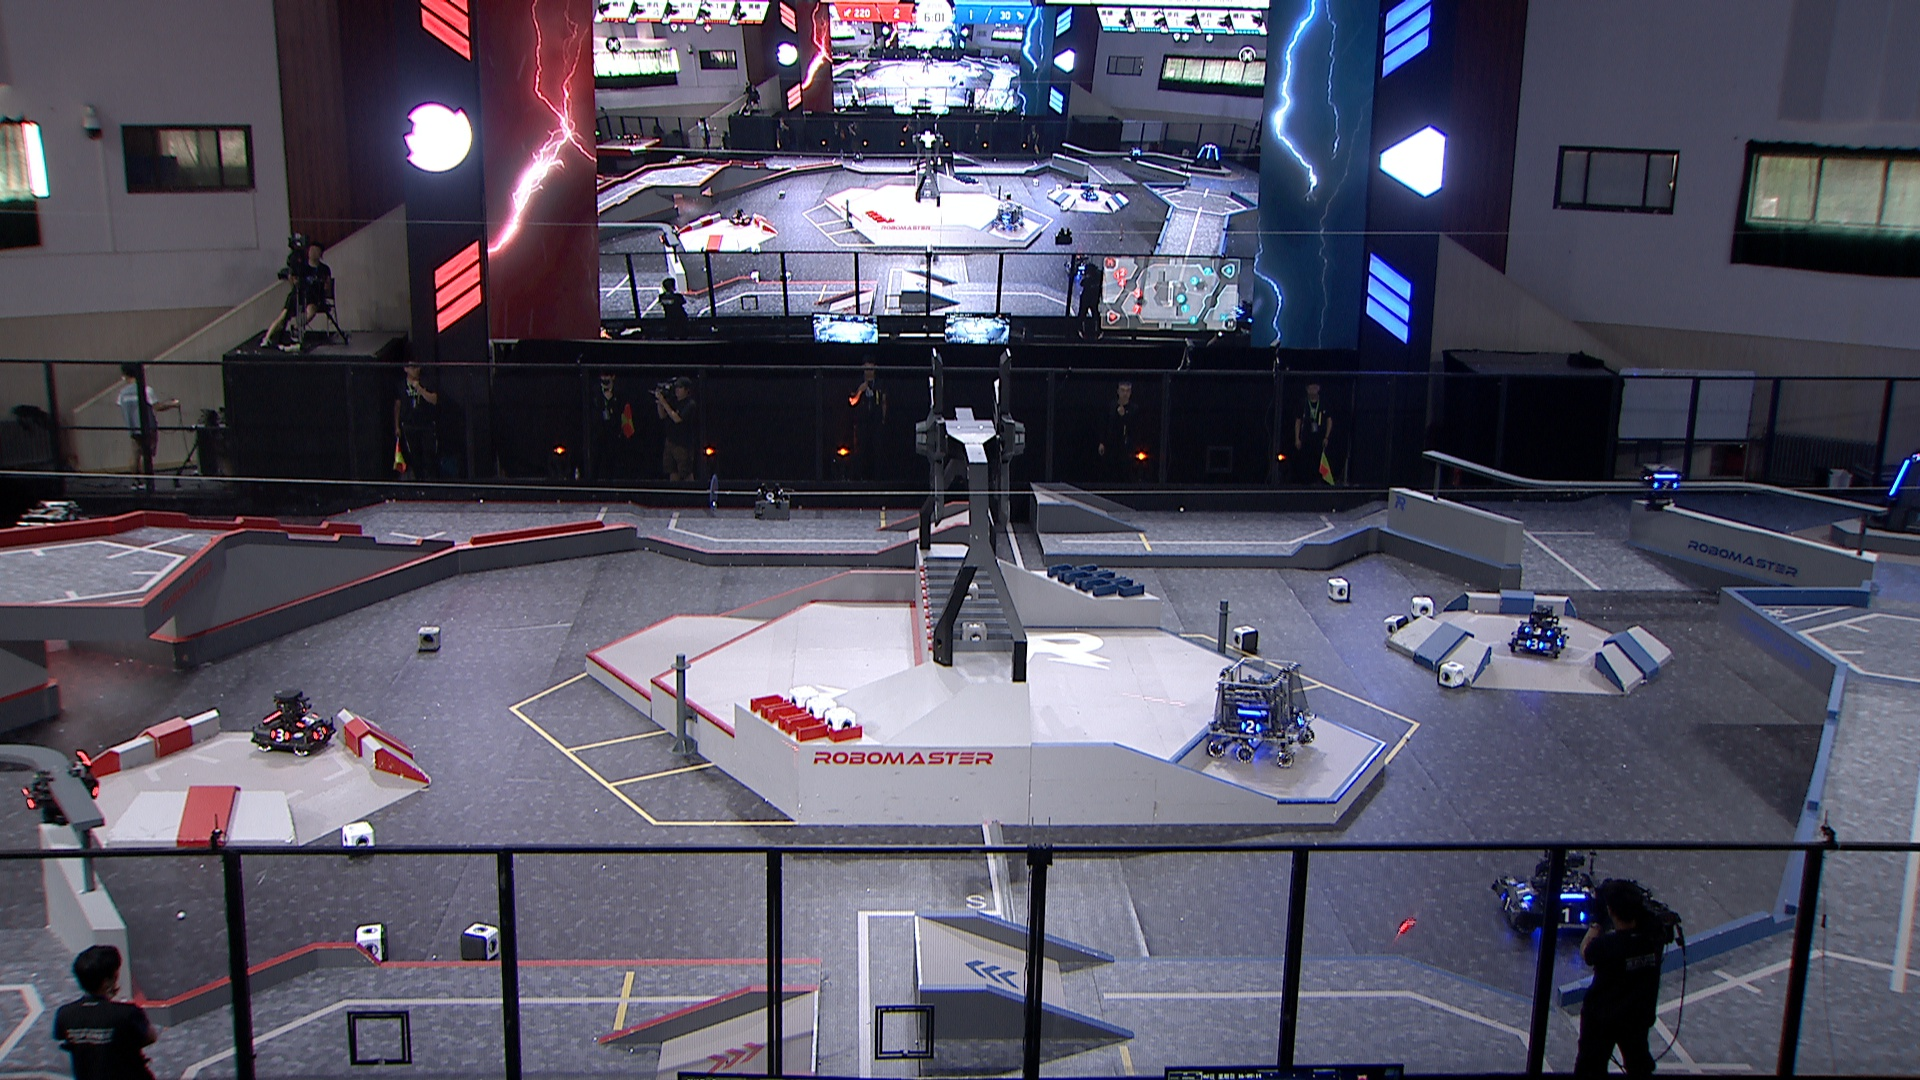armor: (1888, 458, 1911, 498), (1556, 907, 1589, 926), (1499, 891, 1518, 920), (18, 789, 40, 811), (1515, 880, 1534, 905), (1240, 717, 1263, 735), (1523, 624, 1553, 637), (1651, 480, 1680, 493), (268, 728, 291, 744), (295, 713, 319, 728), (1523, 638, 1547, 651), (311, 725, 328, 742), (1298, 711, 1309, 727)
base: (1865, 448, 1920, 538)
car: (1205, 655, 1319, 769), (1491, 844, 1611, 942), (3, 498, 95, 588), (247, 690, 339, 756), (1505, 604, 1569, 661)
ignore: (993, 202, 1029, 232), (1063, 255, 1093, 282), (1191, 142, 1221, 169), (659, 224, 680, 251), (728, 206, 752, 228), (1081, 187, 1100, 202), (1129, 146, 1143, 164)
watcher: (16, 750, 102, 827), (1643, 463, 1685, 514)
